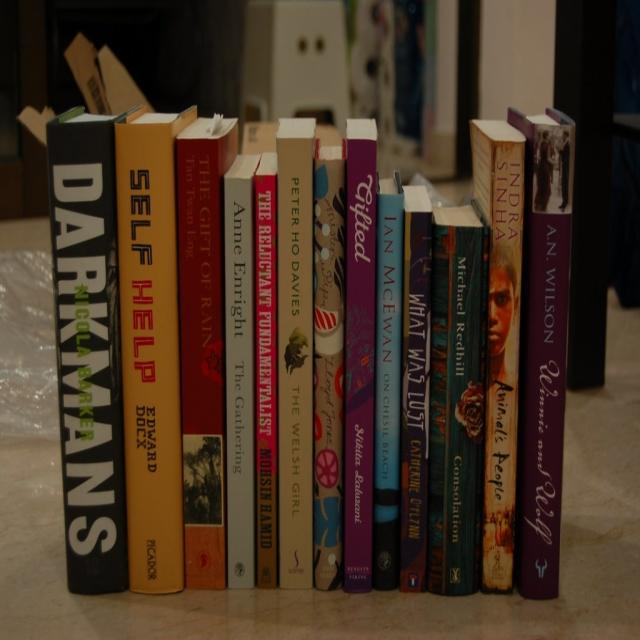book: (45, 106, 131, 596), (114, 106, 189, 596), (511, 110, 575, 600), (469, 116, 525, 594), (428, 206, 486, 596), (277, 116, 315, 590), (342, 116, 377, 594), (221, 150, 257, 591), (312, 137, 344, 587), (397, 186, 432, 592), (374, 171, 404, 589), (254, 151, 281, 589)
